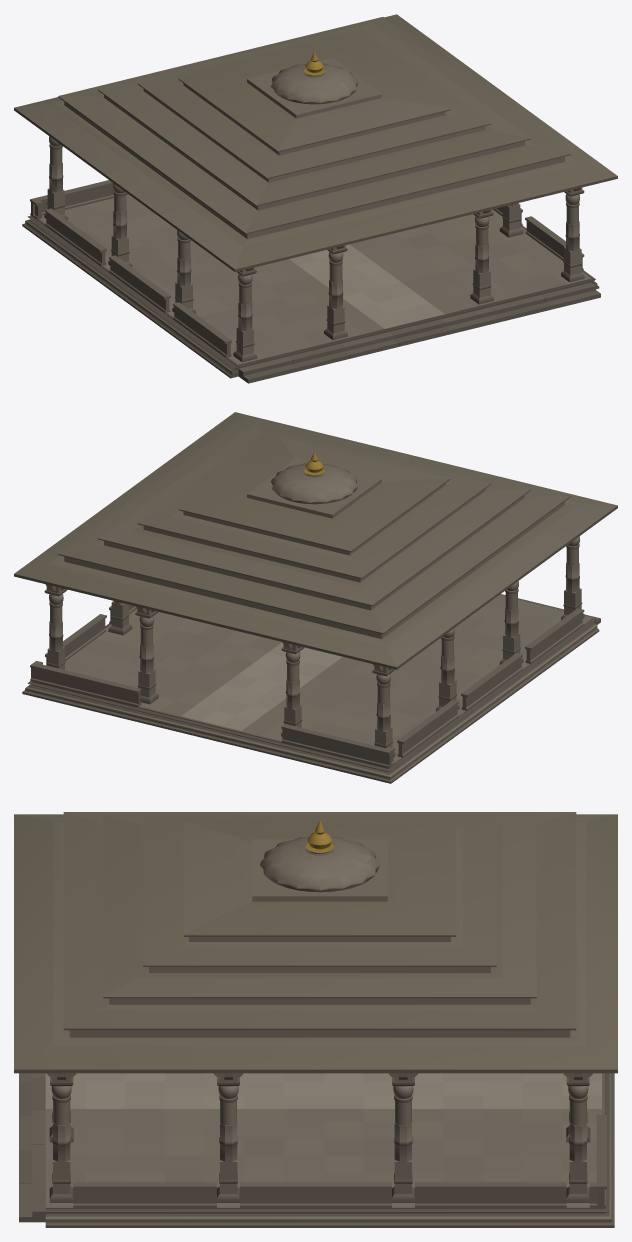
Rendered from mandapa.glb.
3 renders of one model, top to bottom at view 1: azimuth 30°, elevation 25°; view 2: azimuth 150°, elevation 25°; view 3: azimuth 270°, elevation 25°, orthographic. The views are drawn at different scales.
Parts seen in each view (by area): view 1: mandapa; view 2: mandapa; view 3: mandapa.
Boxes of the visible parts, x1,y1,x2,y2 form: mandapa: (14, 14, 617, 383); mandapa: (14, 412, 617, 783); mandapa: (14, 812, 617, 1227).
Size of the model in its own units: 15.2 by 7.91 by 15.2.
